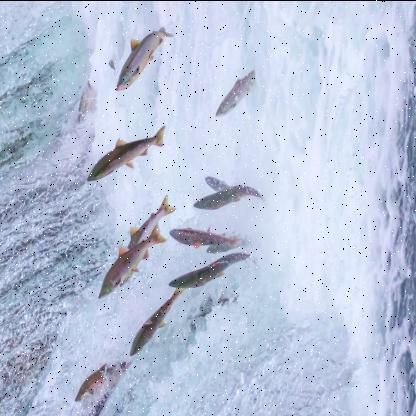fish: (99, 221, 165, 298), (87, 124, 166, 180), (114, 25, 173, 90), (129, 284, 181, 354), (123, 194, 175, 259), (169, 251, 252, 289), (214, 66, 260, 117), (74, 359, 126, 401), (192, 183, 266, 212), (167, 224, 238, 249), (204, 230, 256, 254), (206, 177, 250, 201)
